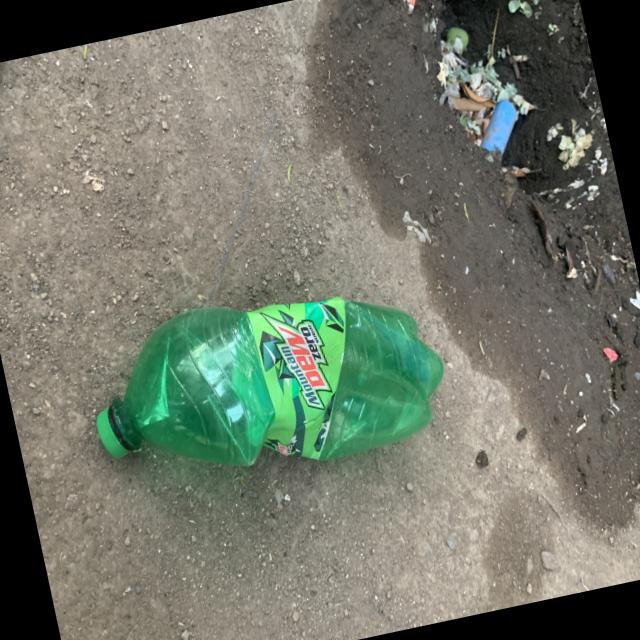Bottle: (96, 296, 442, 464)
